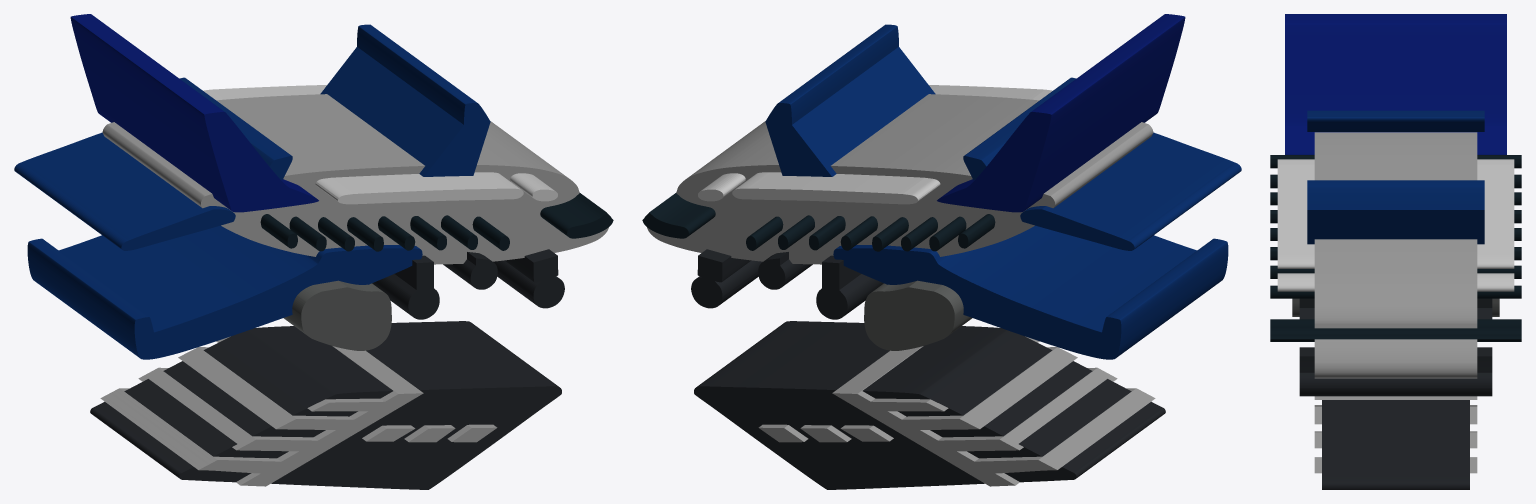
The picture shows the model from 3 angles, left to right: view 1: azimuth 30°, elevation 25°; view 2: azimuth 150°, elevation 25°; view 3: azimuth 270°, elevation 25°; orthographic projection. The views are drawn at different scales.
Visible parts, largest first — view 1: U+1F6EC_layer00_obj00, U+1F6EC_layer02_obj01, U+1F6EC_layer01_obj04, U+1F6EC_layer05_obj00, U+1F6EC_layer02_obj02, U+1F6EC_layer02_obj03, U+1F6EC_layer06_obj01, U+1F6EC_layer04_obj00, U+1F6EC_layer01_obj05, U+1F6EC_layer01_obj01, U+1F6EC_layer01_obj02, U+1F6EC_layer01_obj00 (+16 smaller); view 2: U+1F6EC_layer00_obj00, U+1F6EC_layer02_obj01, U+1F6EC_layer01_obj04, U+1F6EC_layer05_obj00, U+1F6EC_layer02_obj02, U+1F6EC_layer02_obj03, U+1F6EC_layer06_obj01, U+1F6EC_layer04_obj00, U+1F6EC_layer01_obj05, U+1F6EC_layer01_obj02, U+1F6EC_layer01_obj01, U+1F6EC_layer01_obj00 (+16 smaller); view 3: U+1F6EC_layer01_obj04, U+1F6EC_layer05_obj00, U+1F6EC_layer00_obj00, U+1F6EC_layer02_obj02, U+1F6EC_layer06_obj01, U+1F6EC_layer03_obj02, U+1F6EC_layer07_obj07, U+1F6EC_layer02_obj00, U+1F6EC_layer06_obj00, U+1F6EC_layer07_obj04, U+1F6EC_layer01_obj05, U+1F6EC_layer07_obj01 (+6 smaller).
Boxes of the visible parts, x1,y1,x2,y2 form: U+1F6EC_layer00_obj00: [90, 321, 561, 489]; U+1F6EC_layer02_obj01: [27, 225, 422, 359]; U+1F6EC_layer01_obj04: [102, 94, 608, 264]; U+1F6EC_layer05_obj00: [70, 14, 318, 212]; U+1F6EC_layer02_obj02: [320, 24, 490, 176]; U+1F6EC_layer02_obj03: [14, 132, 235, 250]; U+1F6EC_layer06_obj01: [203, 85, 523, 204]; U+1F6EC_layer04_obj00: [283, 280, 391, 350]; U+1F6EC_layer01_obj05: [236, 346, 423, 486]; U+1F6EC_layer01_obj01: [100, 388, 286, 474]; U+1F6EC_layer01_obj02: [178, 347, 360, 429]; U+1F6EC_layer01_obj00: [138, 367, 321, 451]; U+1F6EC_layer00_obj00: [694, 321, 1165, 489]; U+1F6EC_layer02_obj01: [833, 225, 1228, 359]; U+1F6EC_layer01_obj04: [647, 94, 1153, 264]; U+1F6EC_layer05_obj00: [937, 14, 1185, 212]; U+1F6EC_layer02_obj02: [765, 24, 935, 176]; U+1F6EC_layer02_obj03: [1020, 132, 1241, 250]; U+1F6EC_layer06_obj01: [732, 85, 1052, 204]; U+1F6EC_layer04_obj00: [864, 280, 972, 350]; U+1F6EC_layer01_obj05: [832, 346, 1019, 486]; U+1F6EC_layer01_obj02: [897, 347, 1077, 429]; U+1F6EC_layer01_obj01: [974, 388, 1155, 473]; U+1F6EC_layer01_obj00: [938, 367, 1117, 451]; U+1F6EC_layer01_obj04: [1314, 132, 1477, 378]; U+1F6EC_layer05_obj00: [1285, 14, 1506, 154]; U+1F6EC_layer00_obj00: [1322, 400, 1469, 489]; U+1F6EC_layer02_obj02: [1307, 180, 1484, 244]; U+1F6EC_layer06_obj01: [1277, 159, 1514, 268]; U+1F6EC_layer03_obj02: [1299, 347, 1492, 396]; U+1F6EC_layer07_obj07: [1270, 319, 1521, 341]; U+1F6EC_layer02_obj00: [1307, 110, 1484, 131]; U+1F6EC_layer06_obj00: [1277, 273, 1514, 291]; U+1F6EC_layer07_obj04: [1270, 285, 1521, 298]; U+1F6EC_layer01_obj05: [1314, 396, 1477, 399]; U+1F6EC_layer07_obj01: [1270, 265, 1521, 278].
Size of the model in its own units: 0.3187 by 0.2795 by 0.17.
